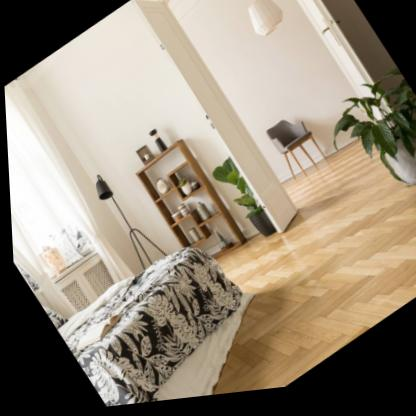Wooden floor: (213, 148, 416, 399)
